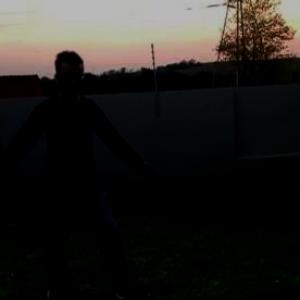land: (1, 62, 141, 291)
